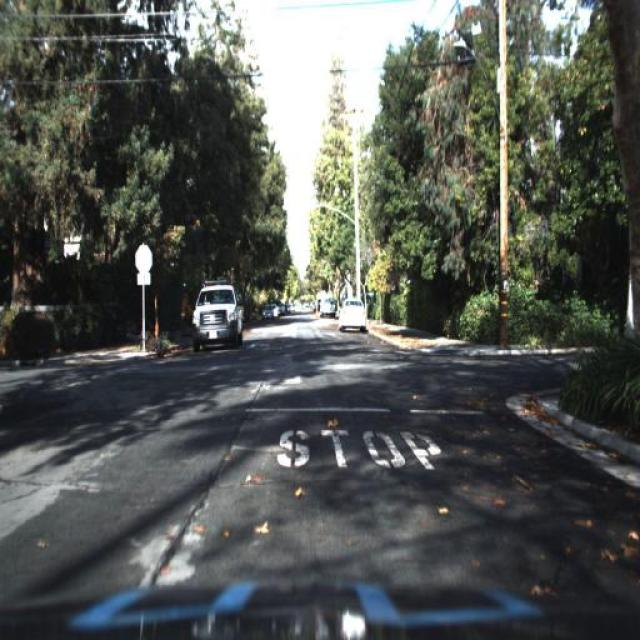car: (188, 279, 242, 353), (334, 293, 370, 333), (337, 292, 364, 328), (260, 301, 278, 327)
